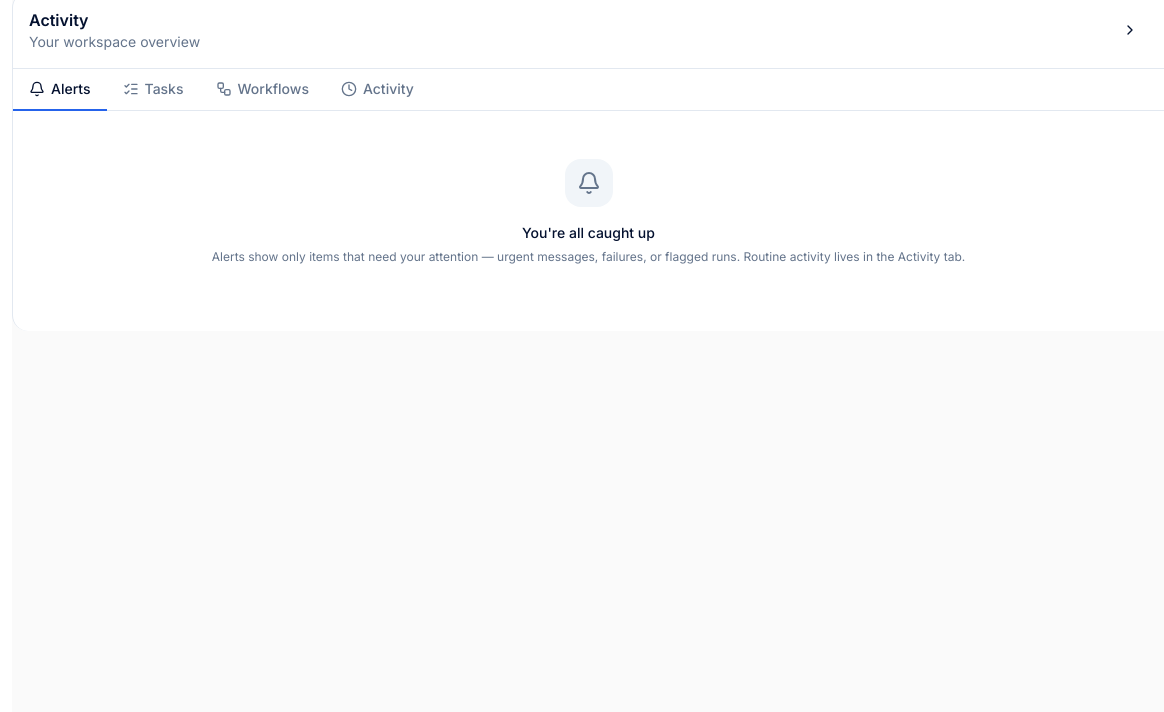
Test: ContextPanel › shows latest workflow run steps and output summaries in details
The image size is (1164, 712).
Click the button "Workflows": [262, 90] box [200,69,325,111]
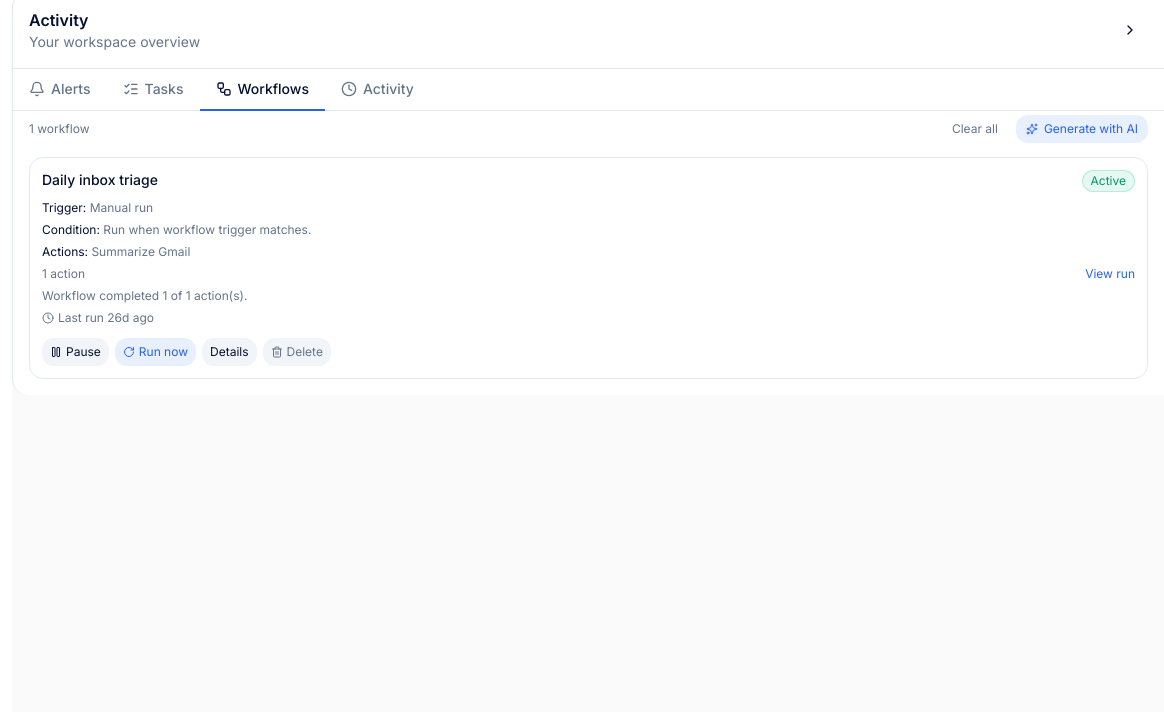
Click the button "View run": [1110, 274] box [1085,266,1135,282]
(page scrolled)
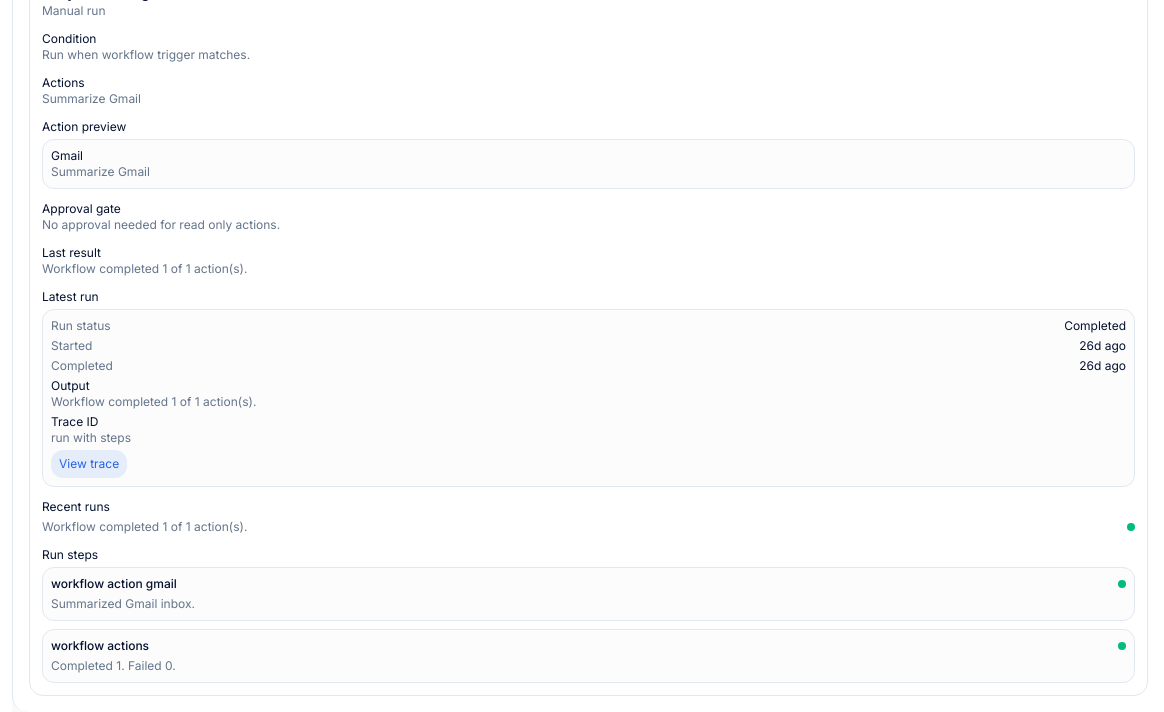
expect the text "Run steps" is shown: met, box [42,547,98,562]
expect the text "workflow action gmail" is shown: met, box [51,576,177,592]
expect the text "Summarized Gmail inbox." is shown: met, box [51,596,195,611]
